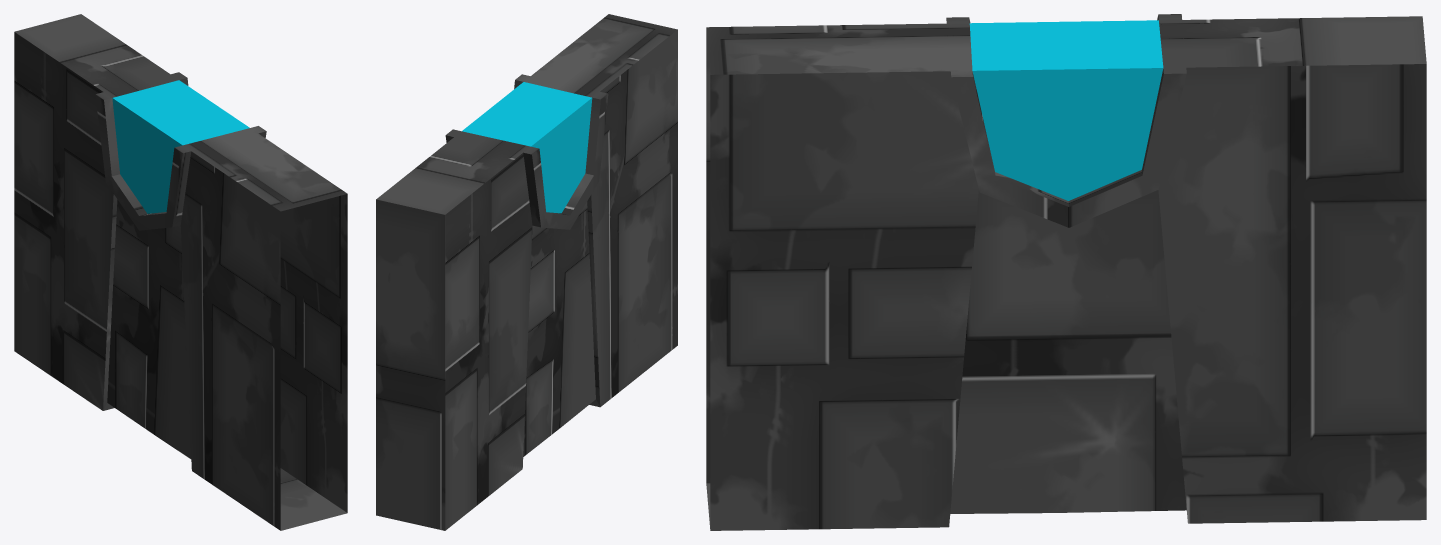
Rendered from porte.FBX.
The picture shows the model from 3 angles, left to right: view 1: azimuth 30°, elevation 25°; view 2: azimuth 150°, elevation 25°; view 3: azimuth 270°, elevation 25°; orthographic projection. The views are drawn at different scales.
Parts seen in each view (by area): view 1: PORTE016; view 2: PORTE016; view 3: PORTE016.
Part boxes in pixels (x1,y1,x2,y2): PORTE016: (14,14,347,530); PORTE016: (376,14,677,530); PORTE016: (706,14,1426,530).
Size of the model in its own units: 109 by 368 by 527.
